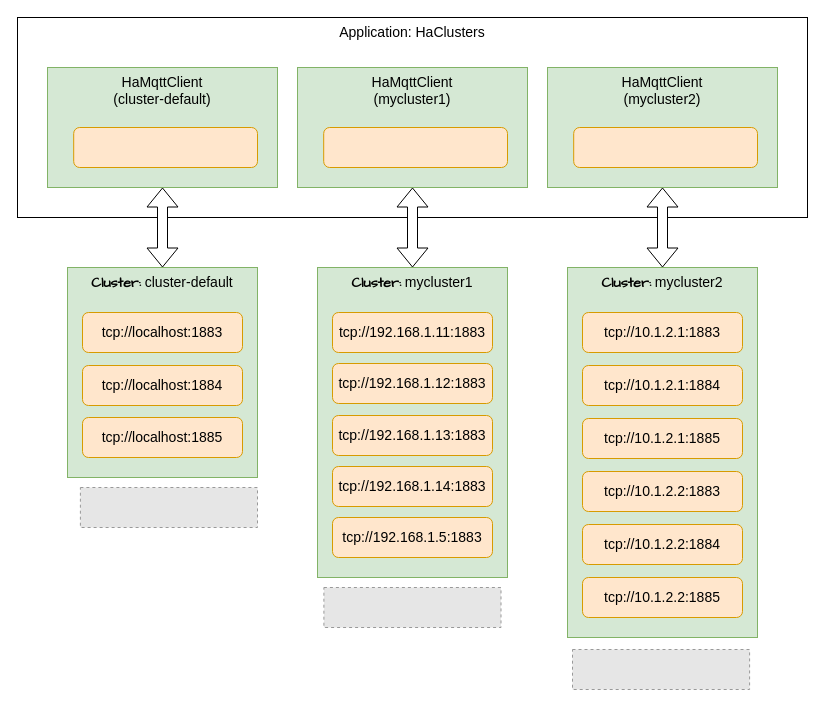
The diagram is 825 pixels wide and 707 high, and some of its shapes have lost their labels. Grey dashed boxes stand in for pictures. The shapes that lost their labels are listed below. From the top down, each one's centre as x and y in pixels, then its label:
(x=165, y=147): tcp://localhost:1883-1885
(x=415, y=147): tcp://192.168.1.11-15
(x=665, y=147): tcp://10.1.2.1-2:1883-1885
